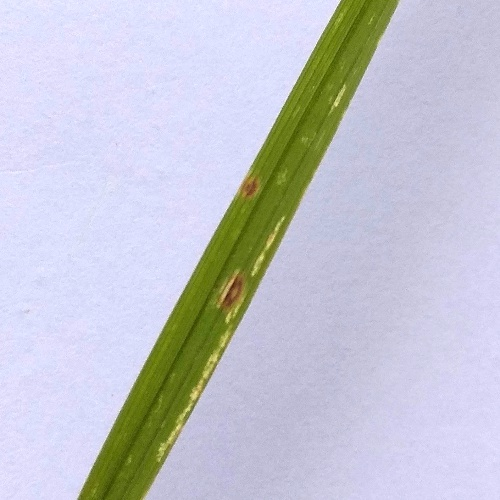Busuk Leher: (212, 268, 255, 315), (235, 169, 268, 200)
